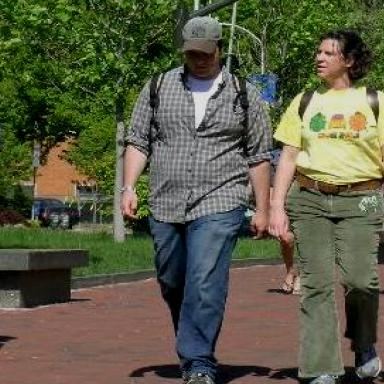ped: (125, 16, 274, 384), (270, 31, 384, 384)
